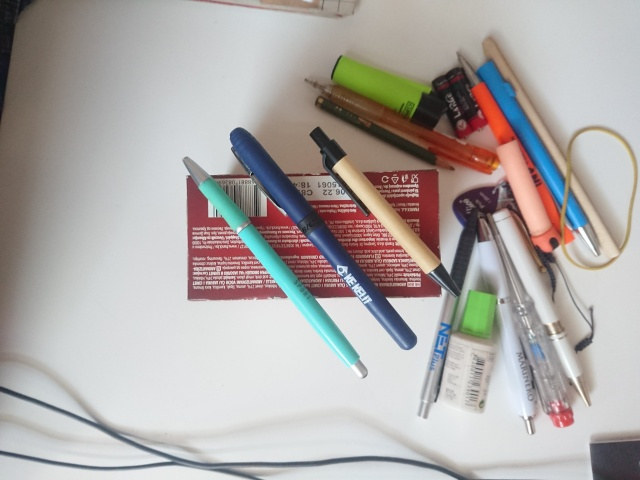Franck Apple Cinnamon Tea 60g: (184, 166, 444, 302)
